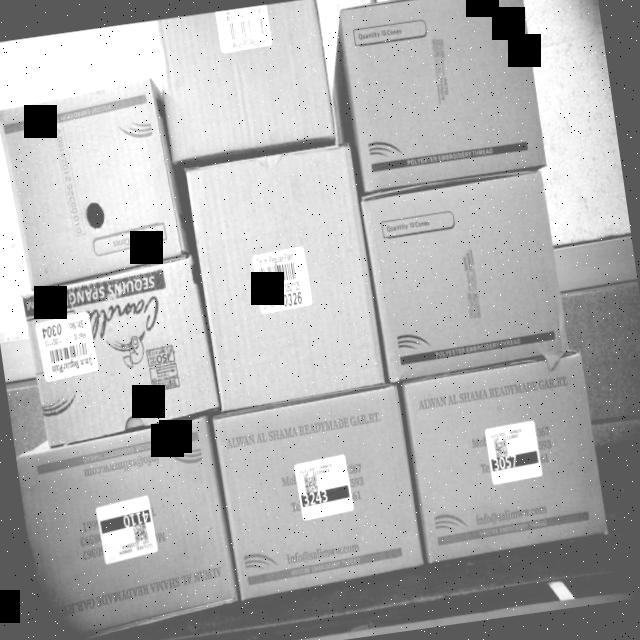box: (186, 146, 384, 405), (16, 428, 239, 640), (208, 386, 426, 594), (399, 350, 606, 558), (364, 173, 570, 379), (341, 0, 550, 191), (0, 75, 186, 279), (17, 260, 219, 444), (155, 0, 343, 165)
